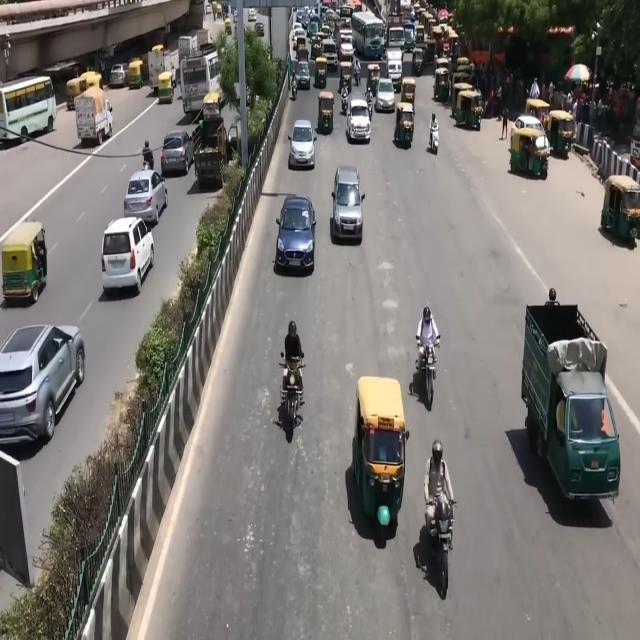auto: (355, 377, 409, 531), (1, 220, 48, 304), (600, 174, 640, 244), (510, 113, 550, 179), (74, 85, 114, 145), (545, 109, 576, 159), (455, 86, 484, 131), (394, 101, 416, 149), (317, 90, 335, 134), (433, 65, 451, 103), (66, 76, 85, 110), (202, 90, 222, 121), (157, 71, 175, 104), (126, 60, 145, 90), (400, 77, 416, 109), (339, 60, 353, 95), (314, 56, 328, 89), (367, 63, 381, 96), (412, 44, 426, 76), (422, 36, 436, 64), (311, 36, 323, 60), (295, 31, 307, 52), (224, 17, 232, 35)
bike-auto: (423, 438, 461, 599), (277, 318, 306, 442), (416, 307, 441, 413), (429, 113, 439, 153), (142, 140, 154, 169), (365, 88, 374, 119), (340, 85, 349, 115), (290, 71, 298, 99), (354, 57, 362, 85)
